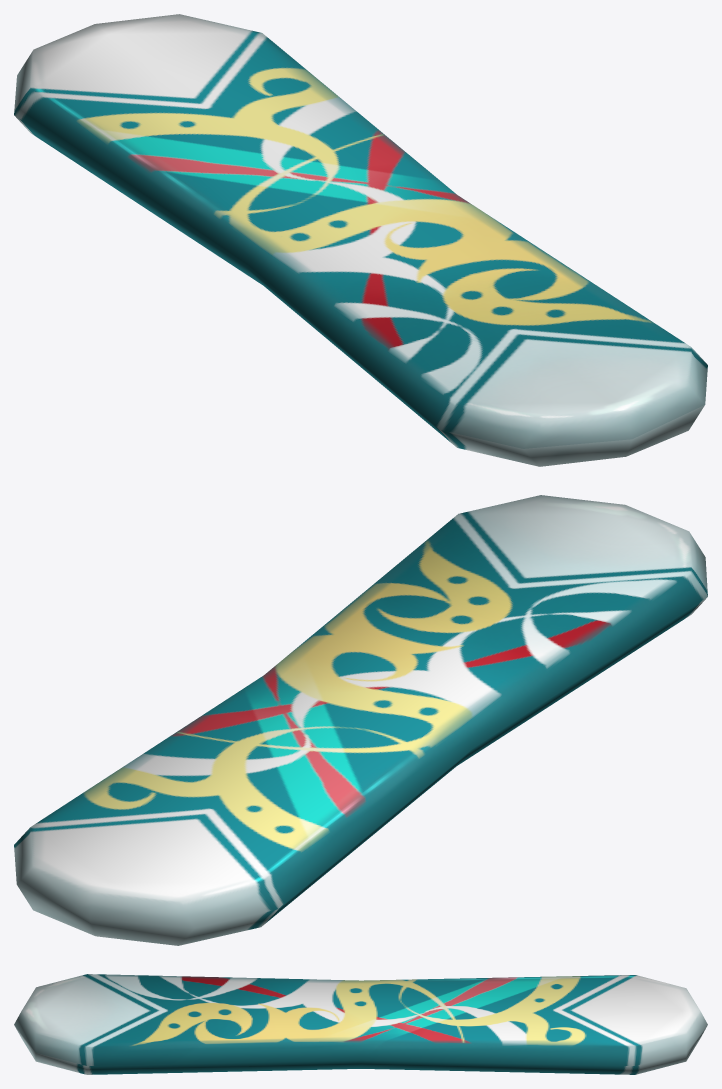
Rendered from gunner_bike3.FBX.
3 views of the same model, one above another, from view 1: azimuth 30°, elevation 25°; view 2: azimuth 150°, elevation 25°; view 3: azimuth 270°, elevation 25° (orthographic). The views are drawn at different scales.
Parts seen in each view (by area): view 1: bike3; view 2: bike3; view 3: bike3.
Part boxes in pixels (bbox=[...]): bike3: bbox=[14, 14, 707, 466]; bike3: bbox=[14, 495, 707, 945]; bike3: bbox=[14, 974, 707, 1074].
Bounding box in the file's own units: 114 × 17.79 × 400.
